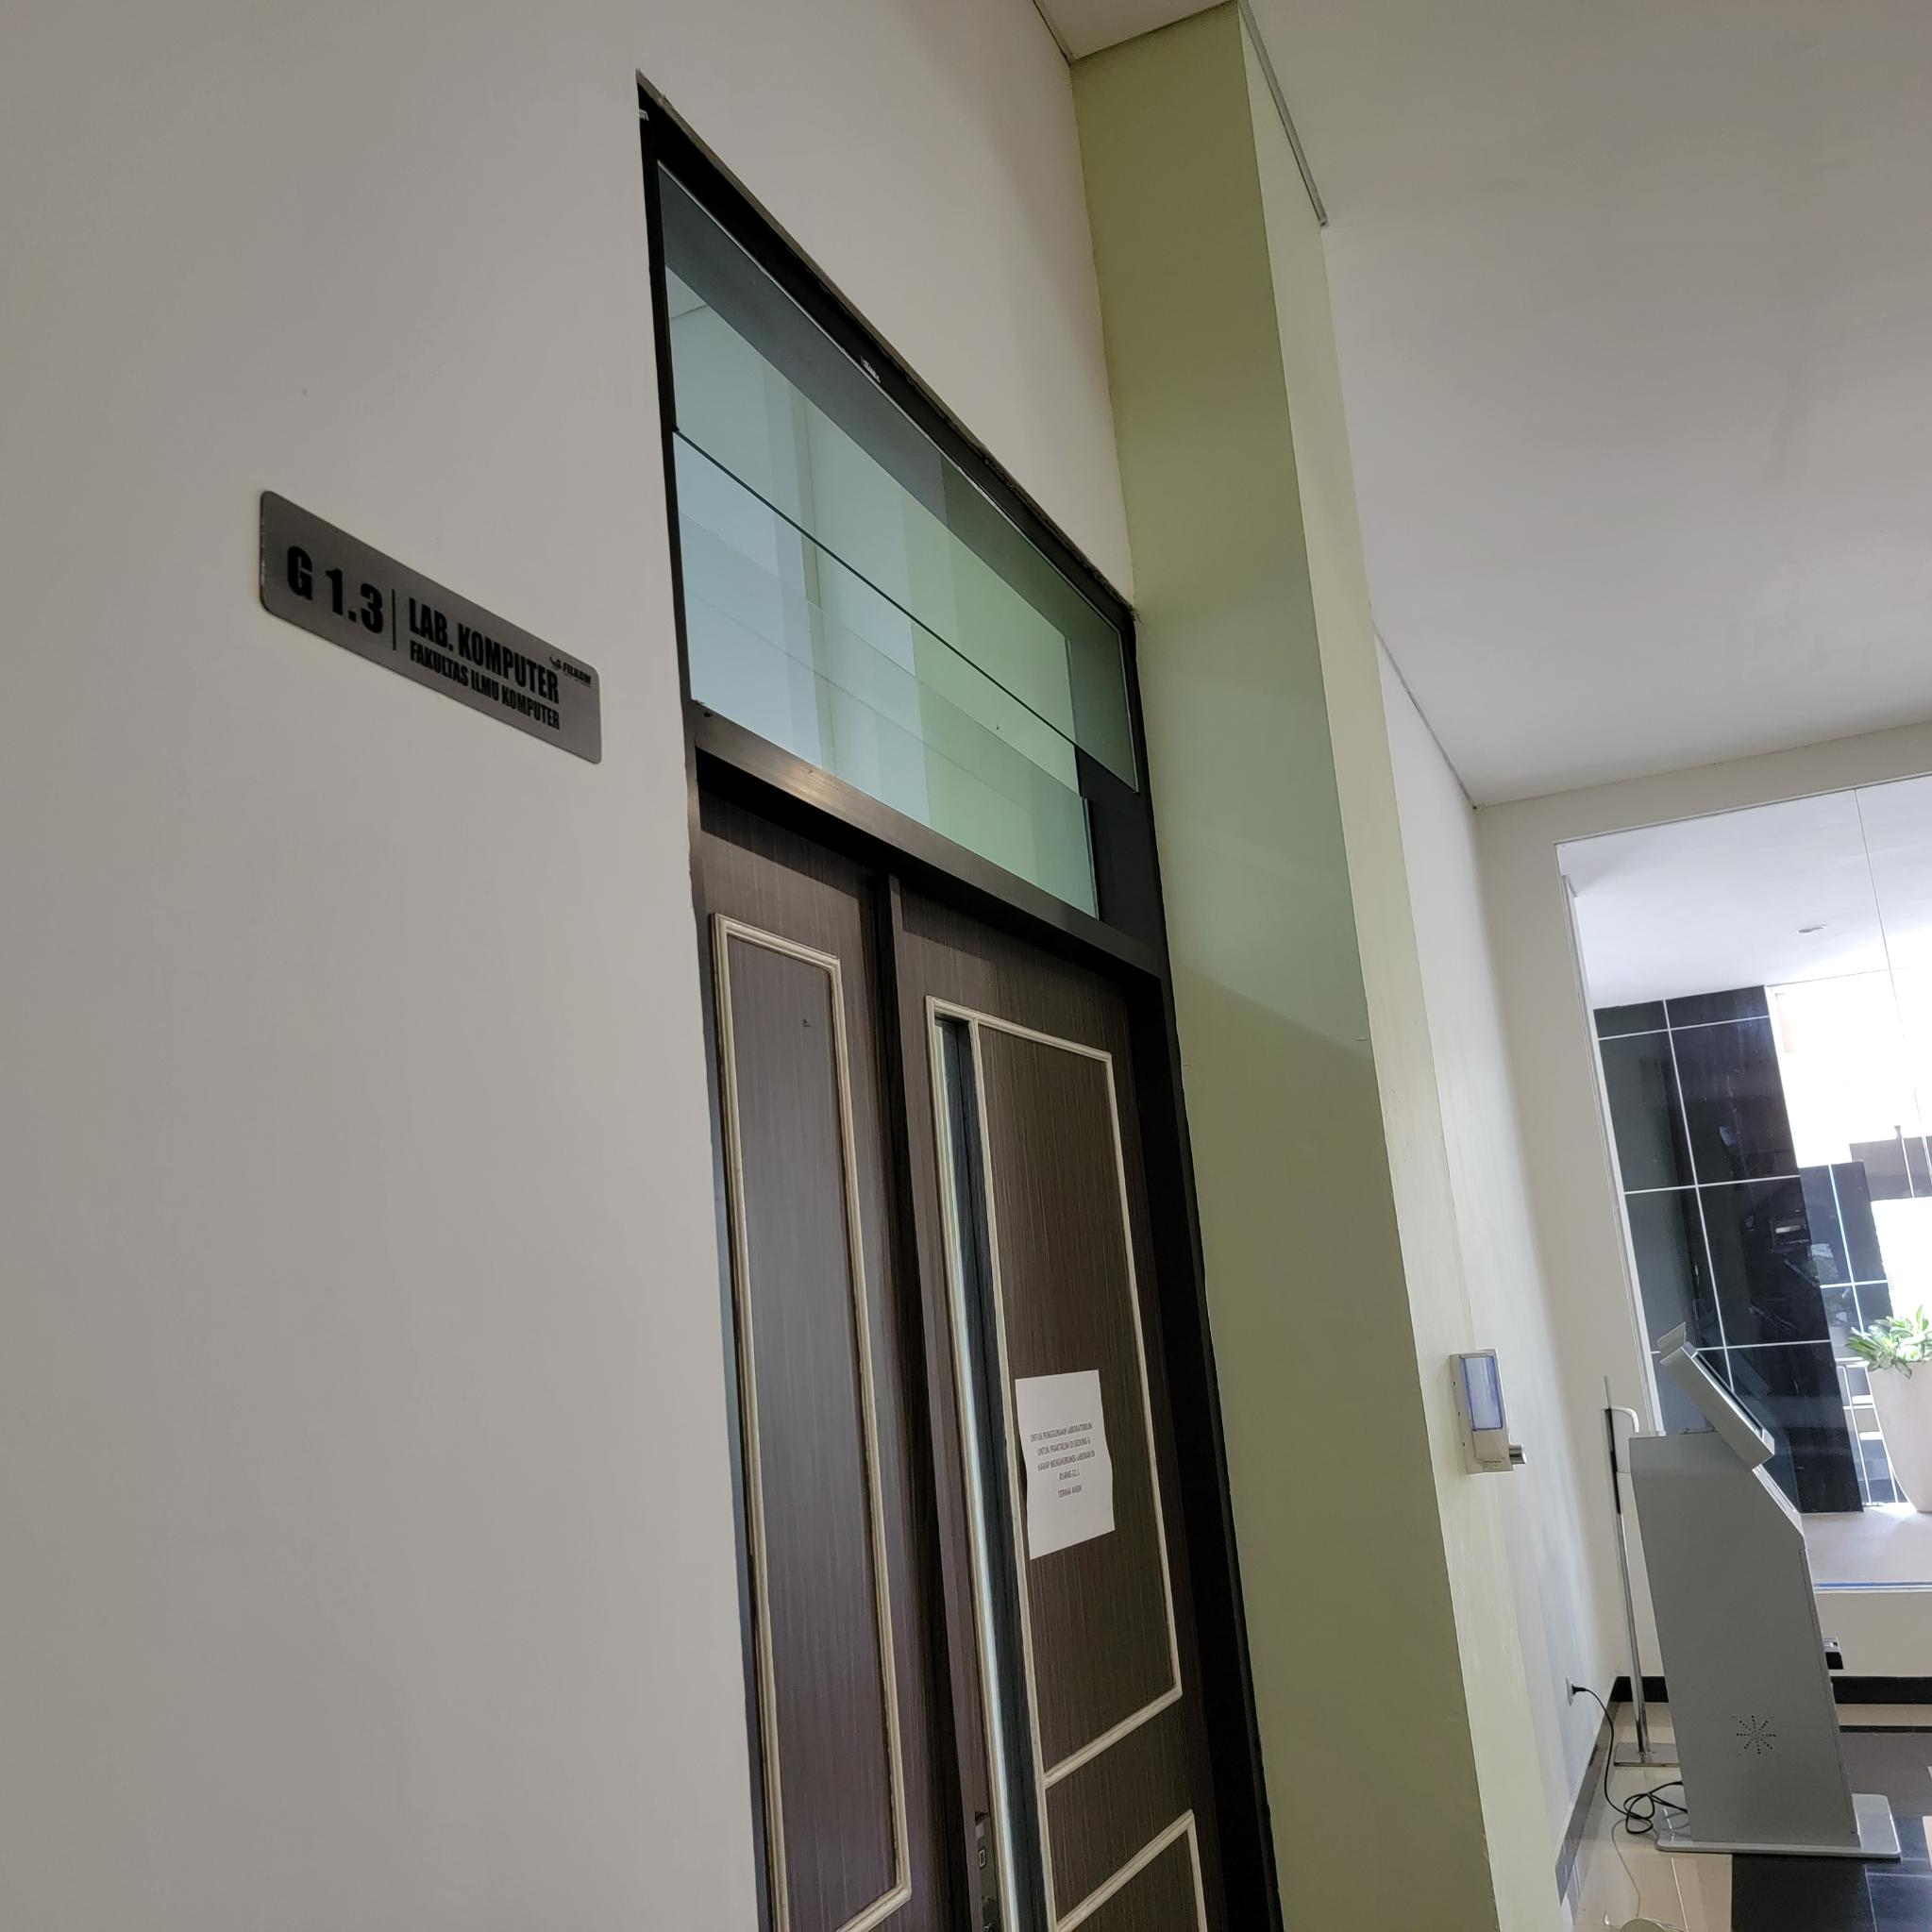plate: (262, 483, 603, 768)
